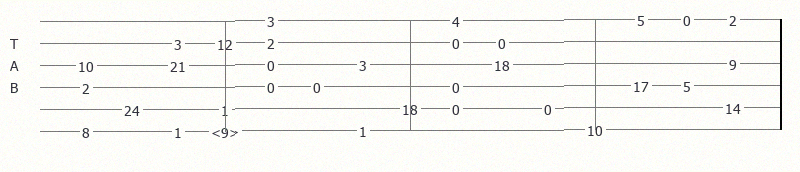0: (267, 57, 279, 71), (267, 79, 279, 93), (313, 79, 325, 93), (452, 101, 464, 115), (452, 35, 464, 49), (452, 79, 464, 93), (498, 35, 510, 49), (544, 101, 556, 115), (683, 13, 695, 27)
1: (174, 123, 186, 137), (221, 101, 233, 115), (359, 123, 371, 137)
10: (78, 57, 98, 71), (587, 123, 607, 137)
12: (217, 35, 237, 49)
14: (725, 101, 745, 115)
17: (633, 79, 653, 93)
18: (402, 101, 422, 115), (494, 57, 514, 71)
2: (82, 79, 94, 93), (267, 35, 279, 49), (729, 13, 741, 27)
21: (170, 57, 190, 71)
24: (124, 101, 144, 115)
3: (174, 35, 186, 49), (267, 13, 279, 27), (359, 57, 371, 71)
4: (452, 13, 464, 27)
5: (637, 13, 649, 27), (683, 79, 695, 93)
8: (82, 123, 94, 137)
9: (729, 57, 741, 71)
harmonic: (211, 123, 243, 137)
